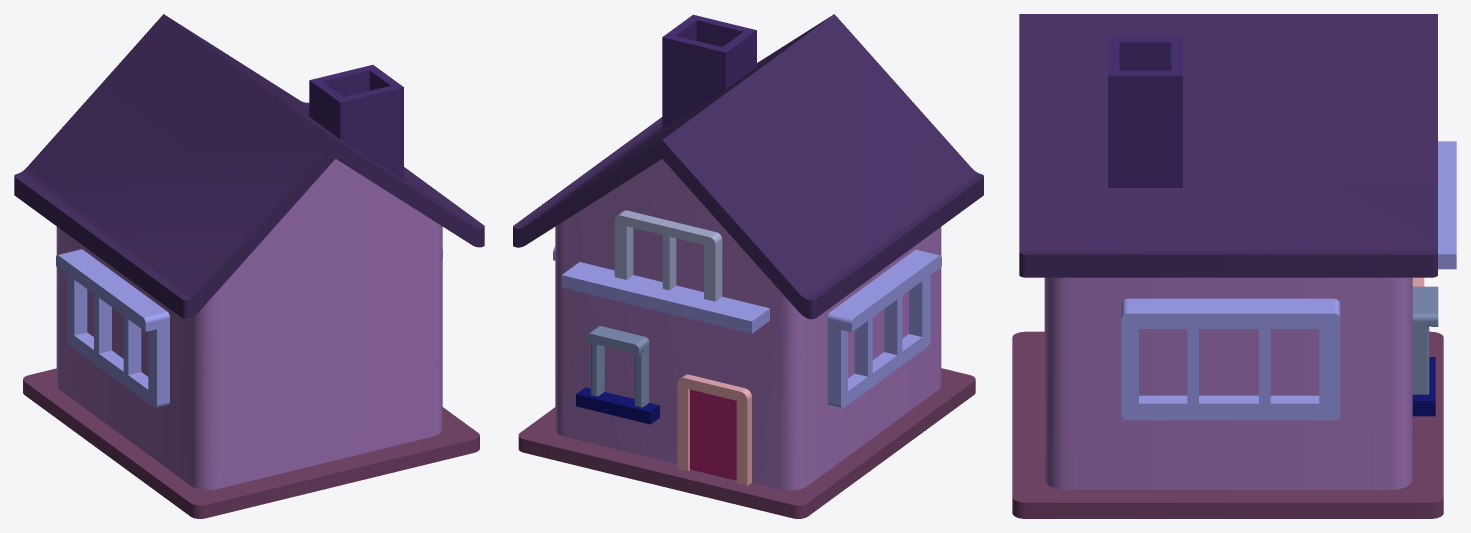
Rendered from module.glb.
3 views of the same model, side by side, from view 1: azimuth 30°, elevation 25°; view 2: azimuth 150°, elevation 25°; view 3: azimuth 270°, elevation 25° (orthographic). The views are drawn at different scales.
Parts seen in each view (by area): view 1: Cube, Cube.001, Cube.002, Cube.009, Cube.010; view 2: Cube.001, Cube, Cube.002, Cube.009, Cube.010, Cube.005, Cube.007, Plane, Cube.003, Cube.006, Cube.004; view 3: Cube.001, Cube, Cube.002, Cube.008, Cube.010, Cube.005, Cube.006, Cube.004.
Part boxes in pixels (left/top/right/bottom): Cube: left=56, top=159, right=442, bottom=489; Cube.001: left=14, top=14, right=484, bottom=318; Cube.002: left=23, top=368, right=479, bottom=518; Cube.009: left=56, top=249, right=169, bottom=407; Cube.010: left=309, top=64, right=403, bottom=179; Cube.001: left=513, top=14, right=983, bottom=319; Cube: left=555, top=159, right=941, bottom=490; Cube.002: left=518, top=368, right=975, bottom=518; Cube.009: left=827, top=249, right=941, bottom=408; Cube.010: left=662, top=14, right=756, bottom=129; Cube.005: left=561, top=262, right=769, bottom=333; Cube.007: left=614, top=210, right=722, bottom=301; Plane: left=690, top=389, right=736, bottom=480; Cube.003: left=677, top=374, right=751, bottom=485; Cube.006: left=586, top=326, right=649, bottom=407; Cube.004: left=576, top=387, right=659, bottom=424; Cube.001: left=1019, top=14, right=1437, bottom=277; Cube: left=1044, top=277, right=1412, bottom=489; Cube.002: left=1012, top=331, right=1443, bottom=518; Cube.008: left=1121, top=298, right=1340, bottom=420; Cube.010: left=1108, top=38, right=1182, bottom=187; Cube.005: left=1438, top=141, right=1456, bottom=269; Cube.006: left=1412, top=286, right=1438, bottom=394; Cube.004: left=1412, top=357, right=1435, bottom=416.
Size of the model in its own units: 2.96 by 3.22 by 3.1.
